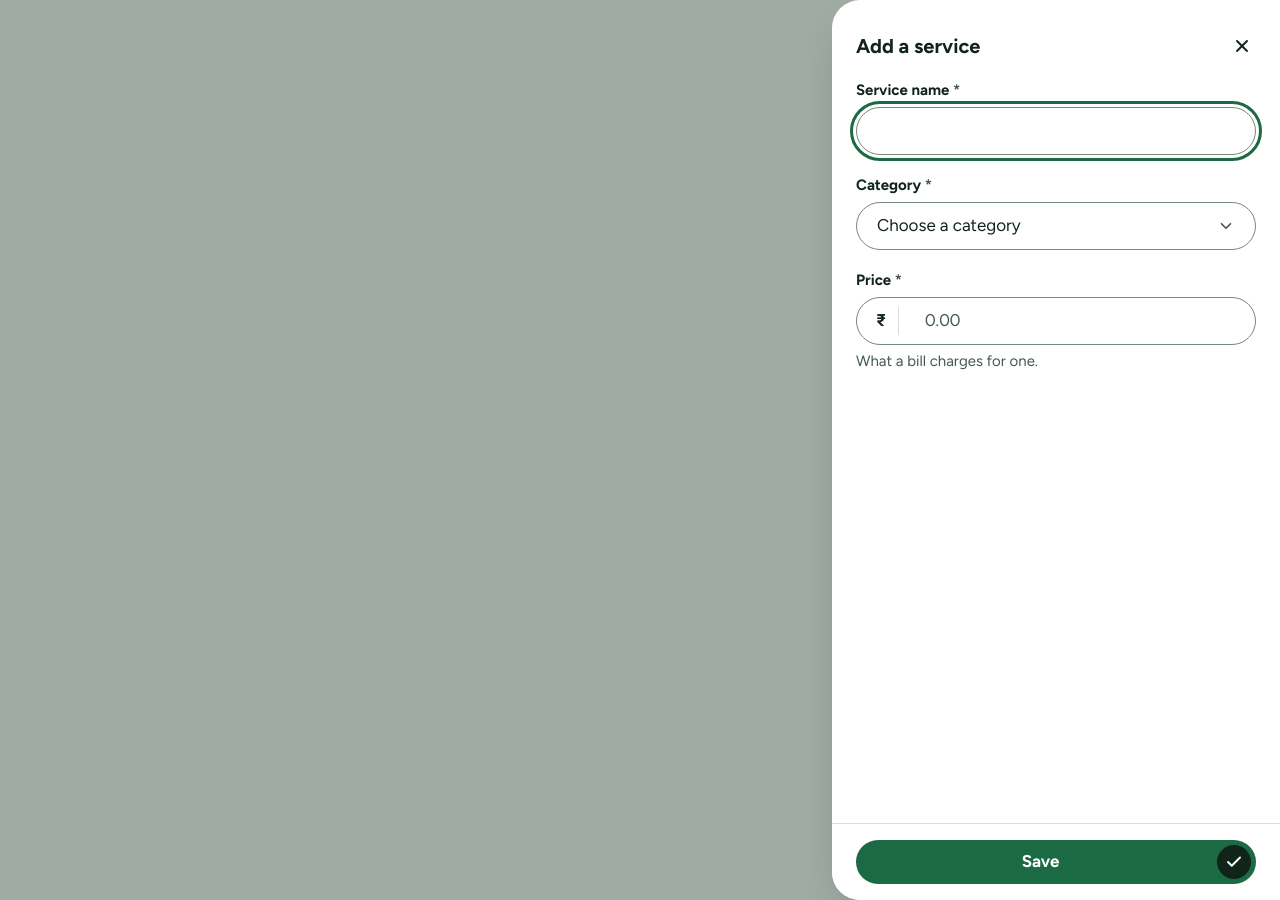
it: ServiceSheet (plan §9) › says when another service has the name, and stays open to put it right
Type "Scaling" into the field labelled "Service name *". click: (1056, 131)
box: [856,107,1256,155]
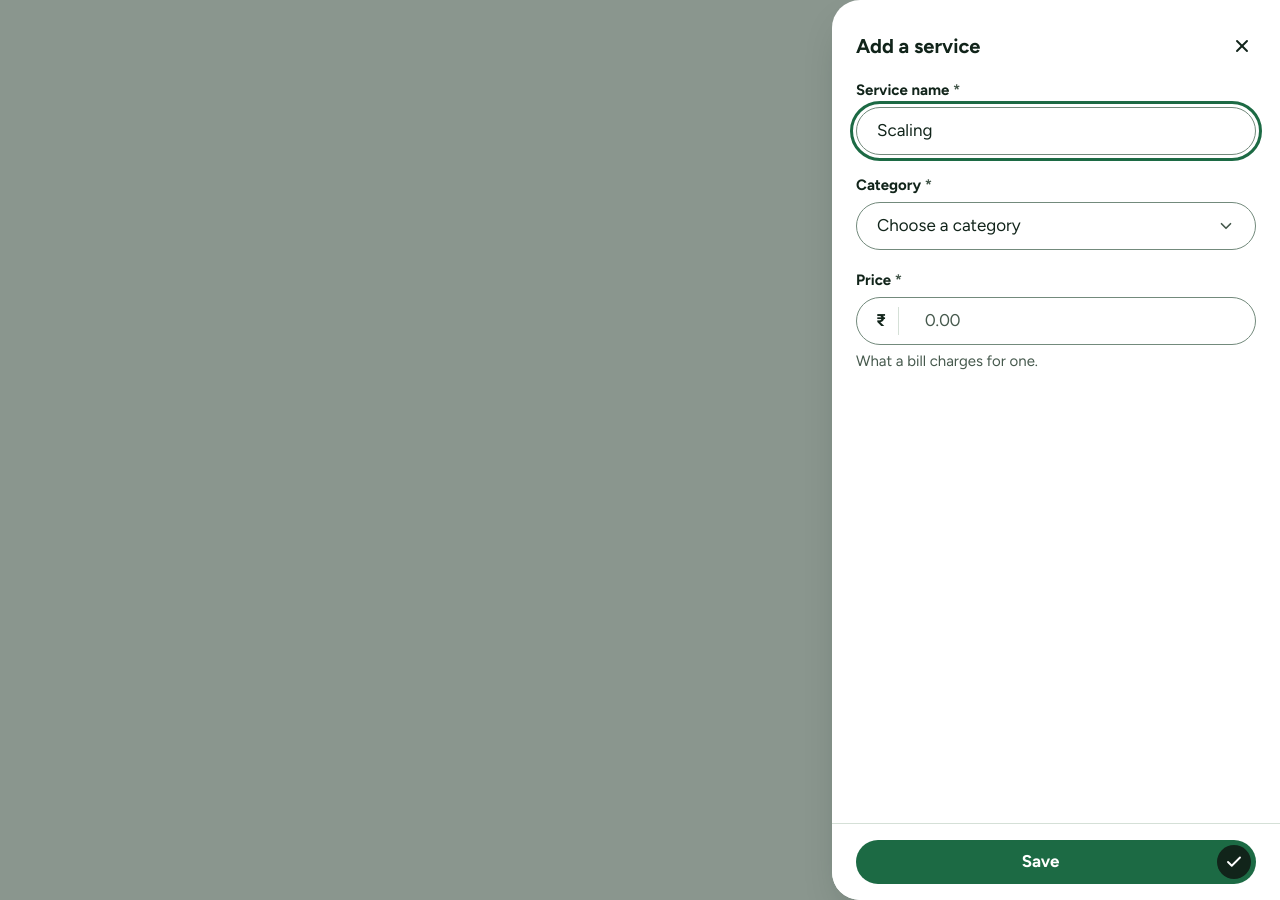
Click the dropdown labelled "Choose a category". click: (949, 225)
box: [856,202,1256,250]
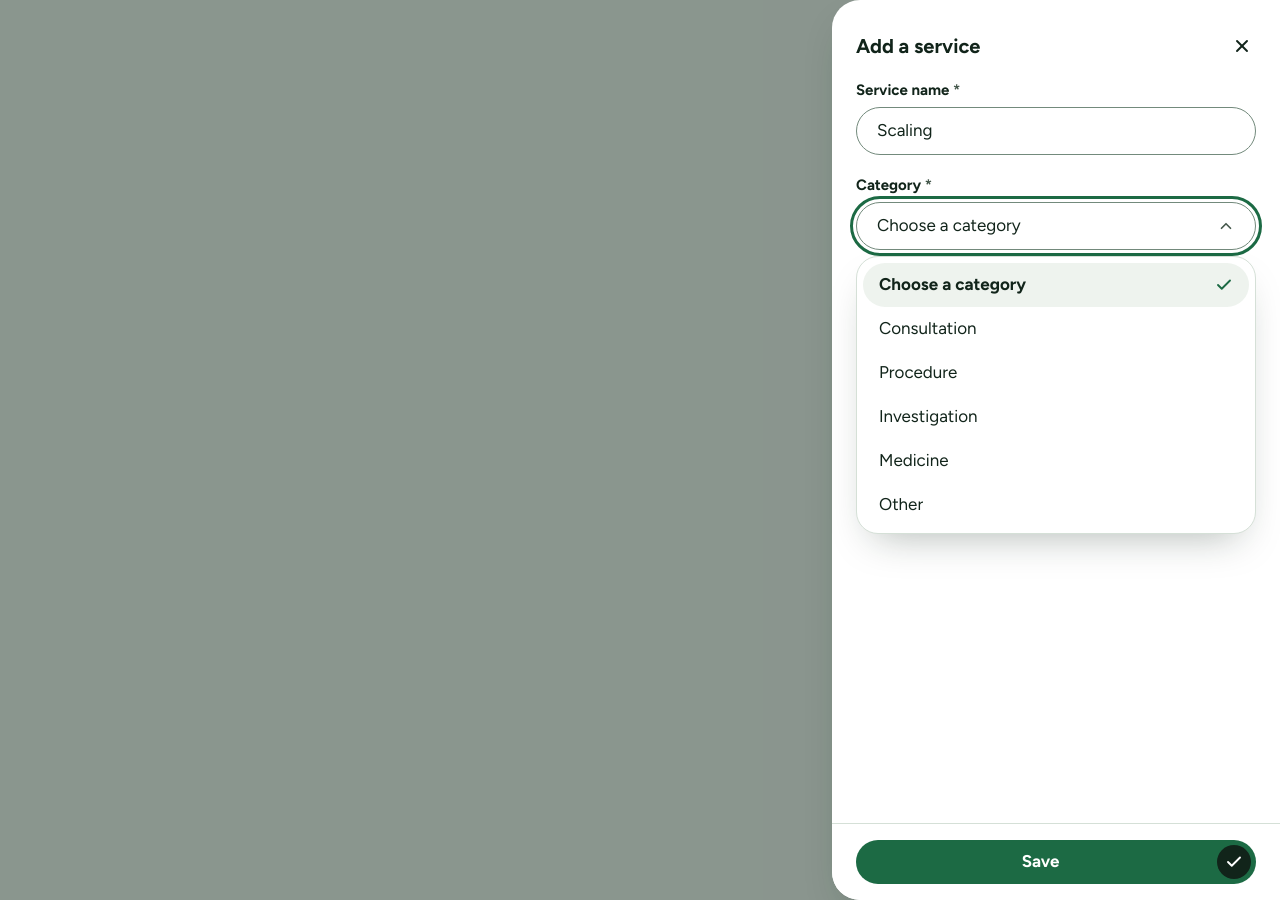
Click the option "Procedure". click: (918, 372)
box: [879,362,957,382]
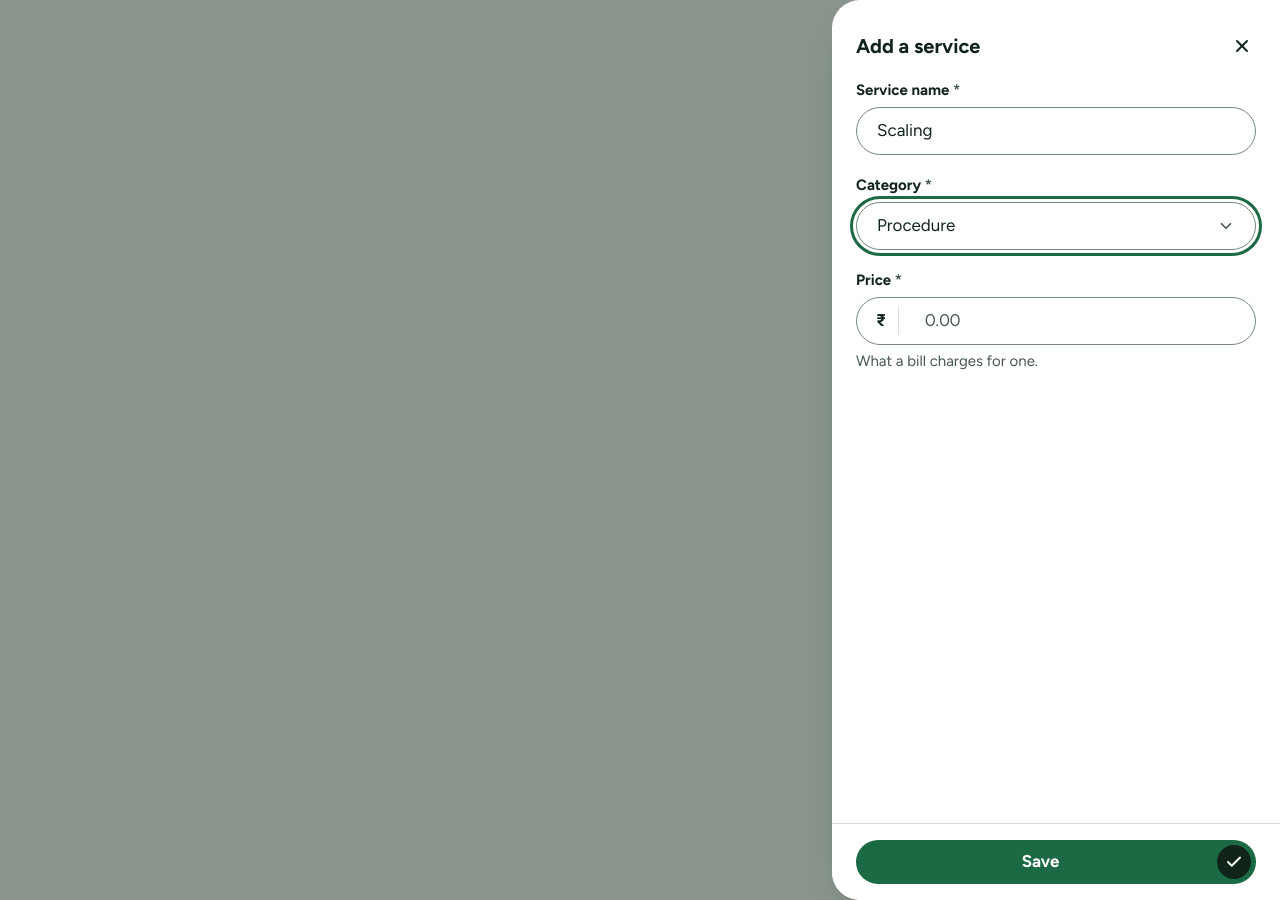
Type "0" into the field labelled "Price *". click: (1056, 321)
box: [856,297,1256,345]
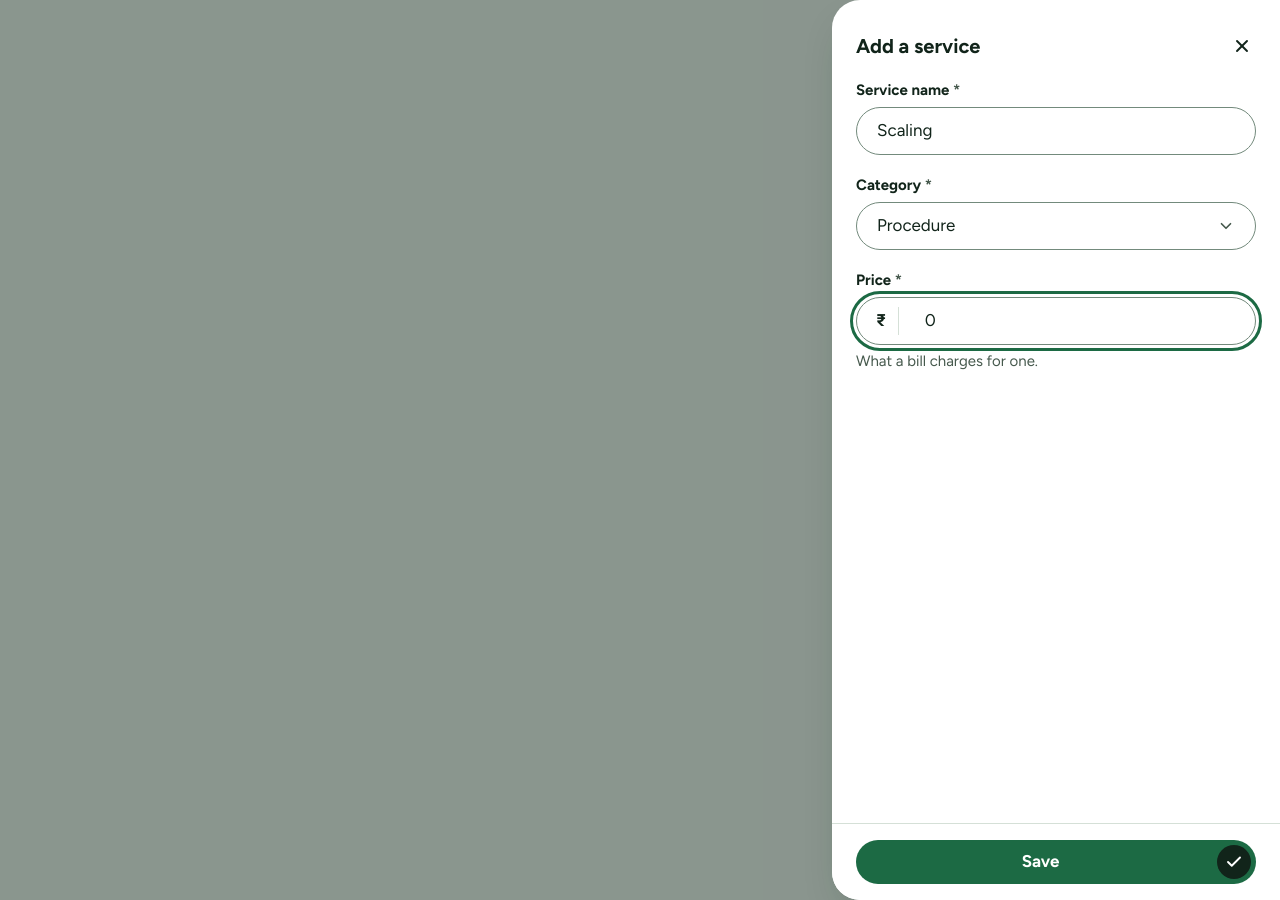
Click the button "Save". click: (1056, 862)
box: [856,840,1256,884]
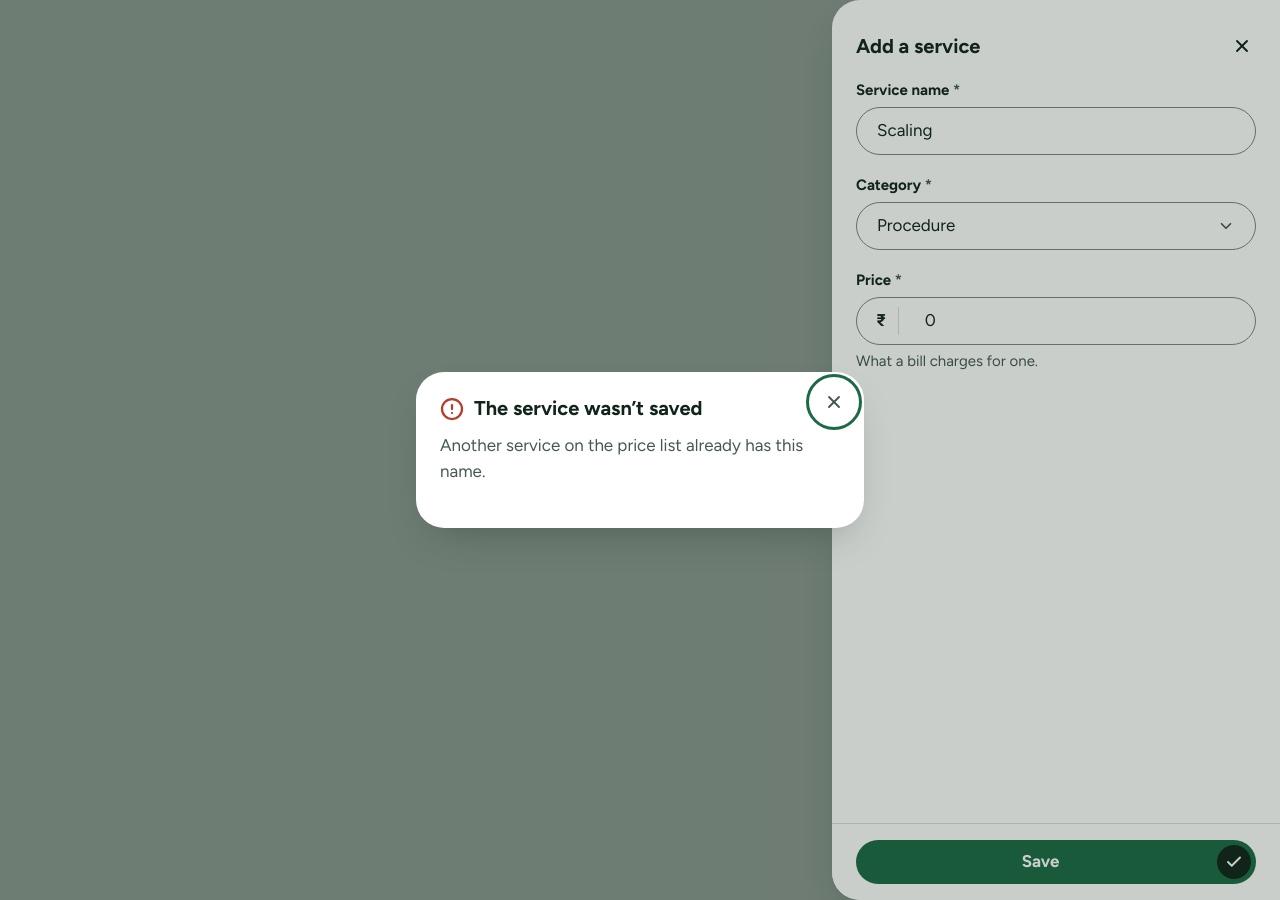
Result: the dialog "The service wasn’t saved" shows "Another service on the price list already has this name." at [440,435,803,480]
